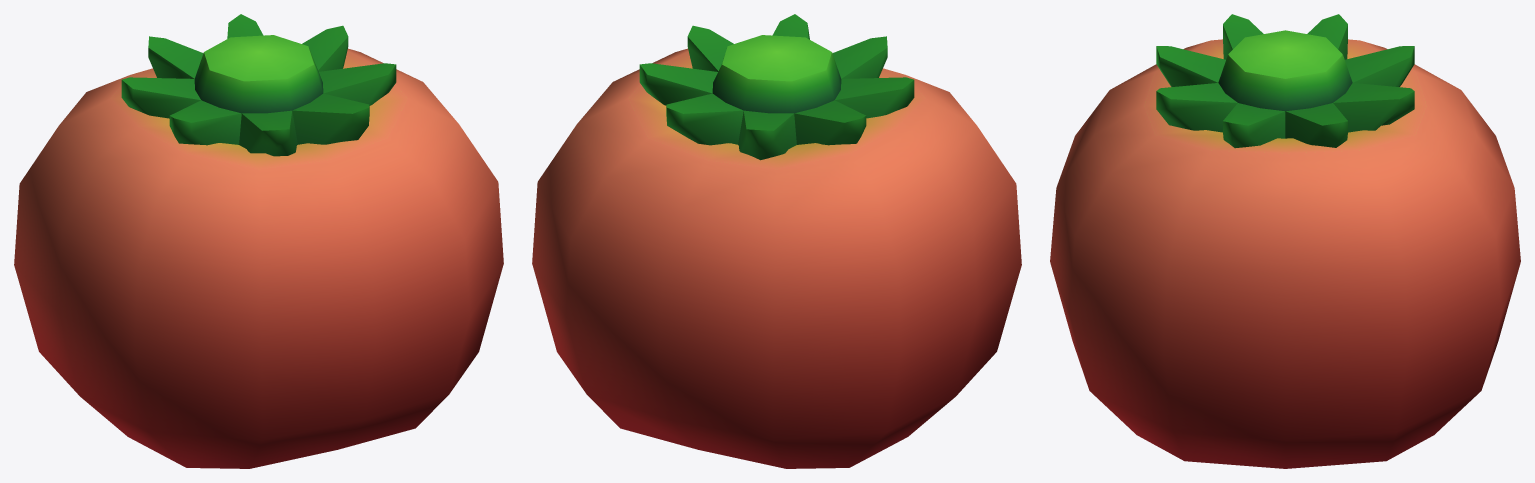
The model's file is Tomato_02.glb.
The picture shows the model from 3 angles, left to right: view 1: azimuth 30°, elevation 25°; view 2: azimuth 150°, elevation 25°; view 3: azimuth 270°, elevation 25°; orthographic projection.
Visible parts, largest first — view 1: Tomato_02; view 2: Tomato_02; view 3: Tomato_02.
Part boxes in pixels (x1,y1,x2,y2): Tomato_02: (14, 14, 503, 468); Tomato_02: (532, 14, 1021, 468); Tomato_02: (1050, 14, 1520, 468).
Bounding box in the file's own units: 0.219 × 0.1923 × 0.2203.
Materials: 1 (1 with a texture image).
